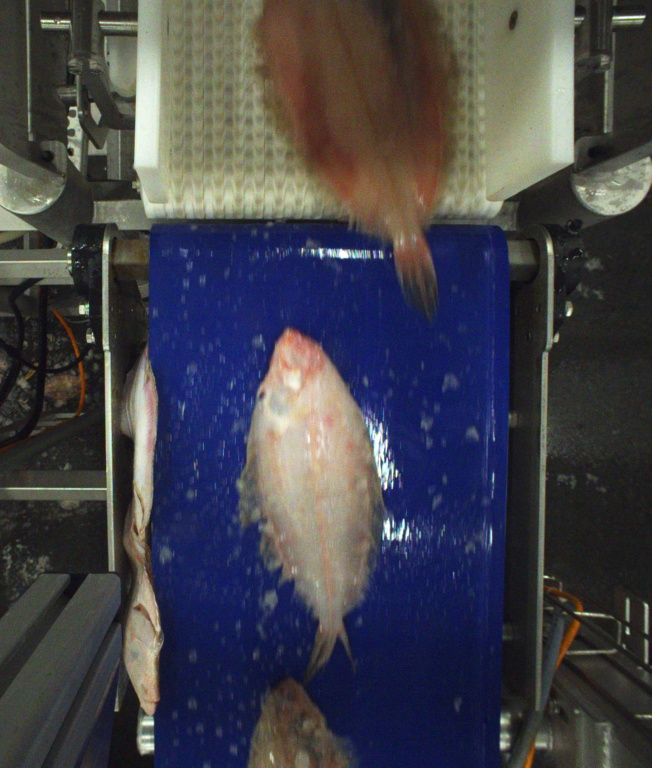WIT: (253, 0, 453, 312)
